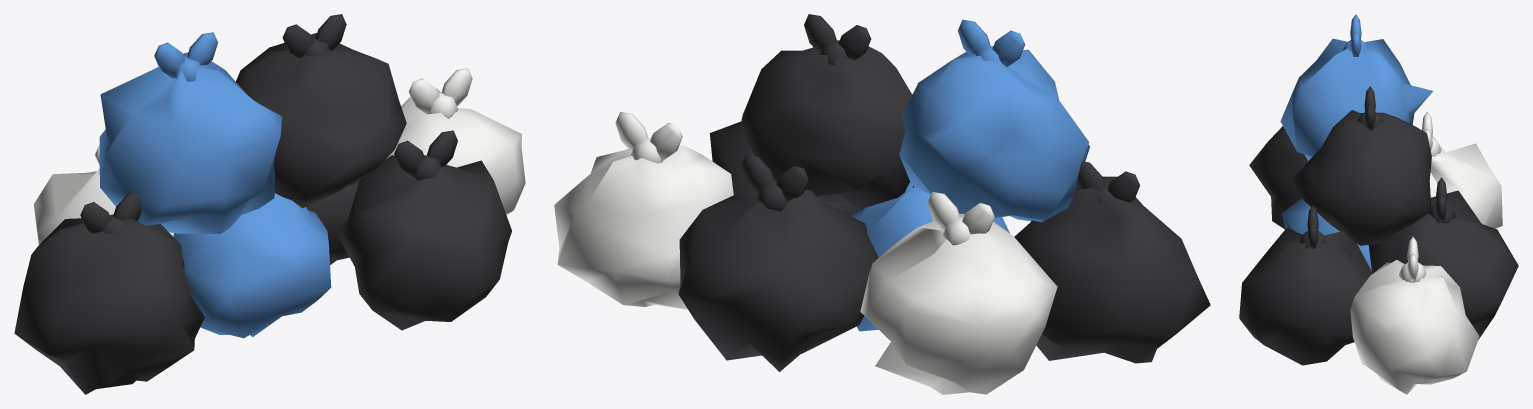
The model's file is bag_pile.fbx.
The picture shows the model from 3 angles, left to right: view 1: azimuth 30°, elevation 25°; view 2: azimuth 150°, elevation 25°; view 3: azimuth 270°, elevation 25°; orthographic projection. The views are drawn at different scales.
Parts seen in each view (by area): view 1: bag_pile; view 2: bag_pile; view 3: bag_pile.
Part boxes in pixels (x1,y1,x2,y2): bag_pile: (14,14,525,394); bag_pile: (554,14,1210,394); bag_pile: (1239,14,1518,394).
Size of the model in its own units: 1.78 by 0.9822 by 0.9789.
